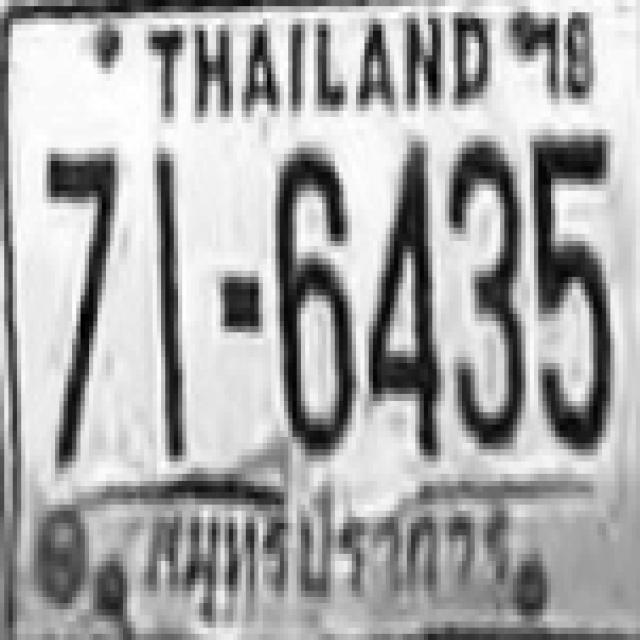1: (153, 148, 182, 437)
3: (445, 135, 521, 443)
4: (364, 136, 436, 450)
5: (530, 126, 606, 446)
6: (271, 142, 352, 449)
7: (43, 144, 117, 463)
SamutPrakan: (134, 485, 514, 607)
